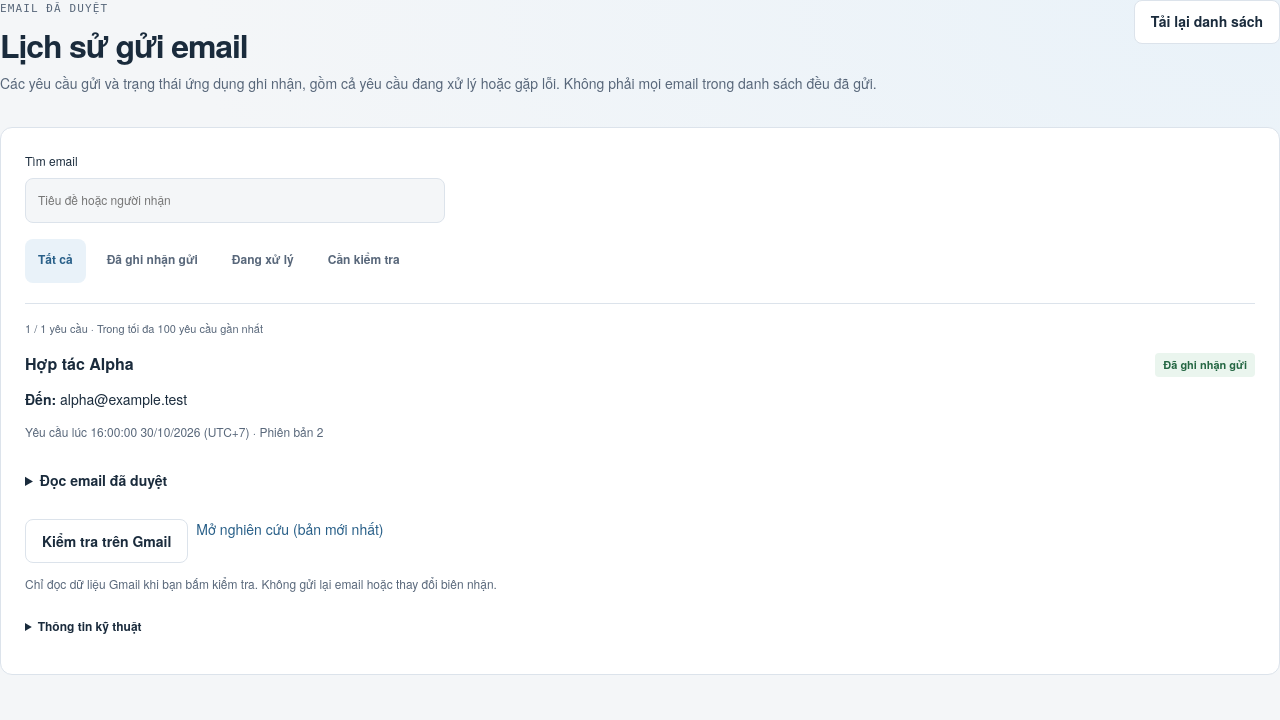
it: sent history › explains mismatch without changing application status
This screenshot has width=1280, height=720.
Click the button "Kiểm tra trên Gmail" at (107,541), box left=25, top=519, right=188, bottom=563
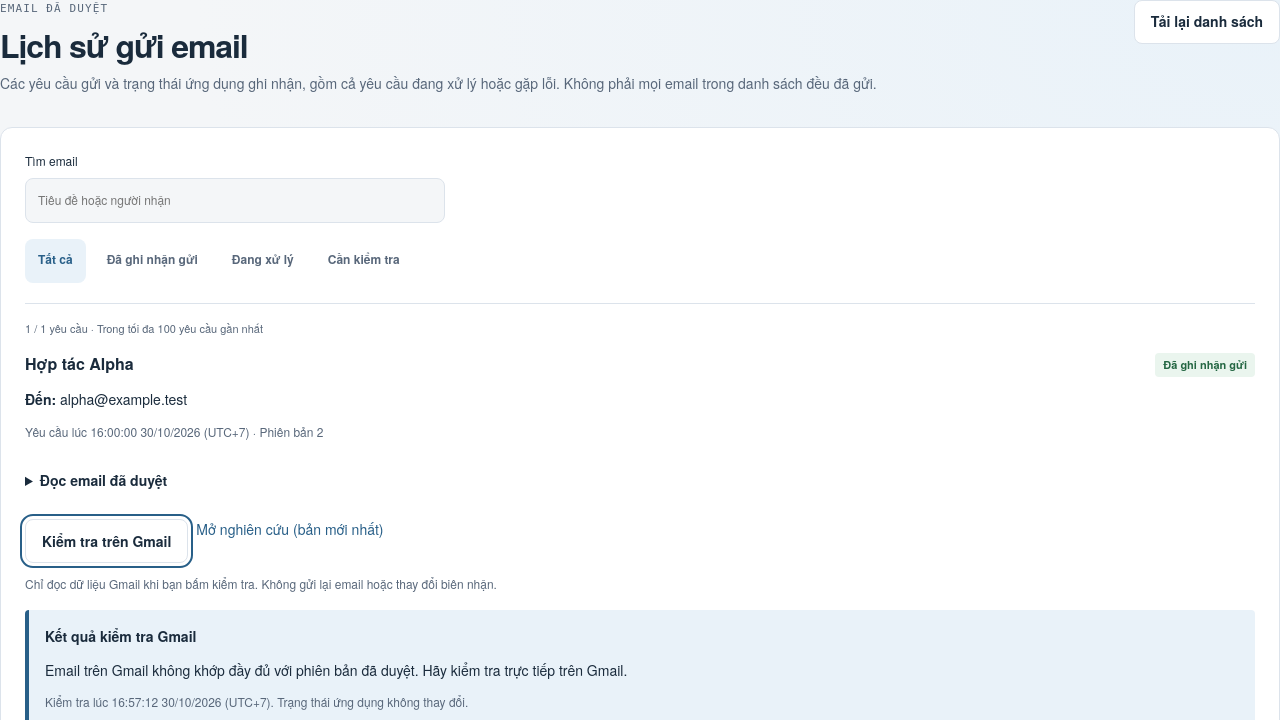
Check: the text "Đã ghi nhận gửi" is shown, box left=1155, top=353, right=1255, bottom=377
Check: the text "không khớp đầy đủ" is shown, box left=45, top=660, right=627, bottom=680
